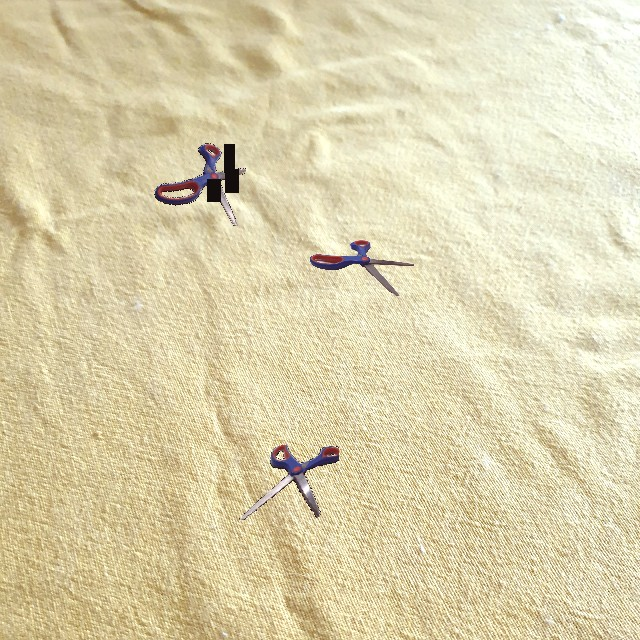scissors: (154, 143, 246, 226), (238, 445, 339, 520), (310, 240, 414, 296)
